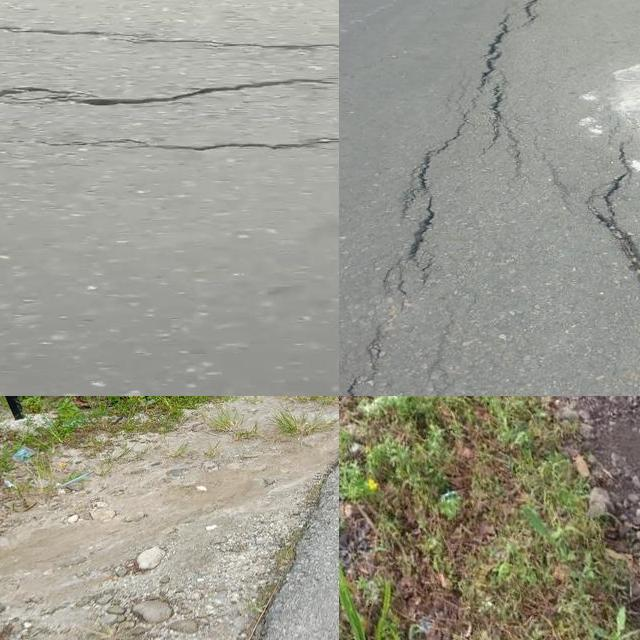Melintang: (0, 67, 339, 120), (0, 16, 339, 66), (61, 130, 339, 163)
Memanjang: (339, 0, 553, 396), (578, 136, 640, 314)
Pinggir: (218, 418, 339, 640)
